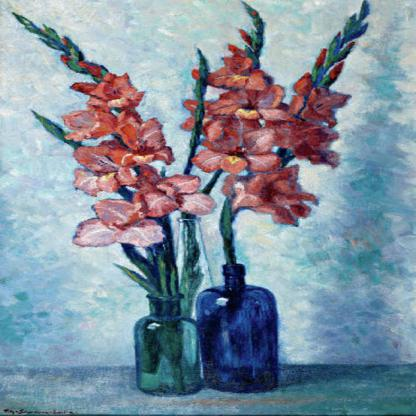vase: (192, 262, 280, 395), (131, 292, 201, 396)
